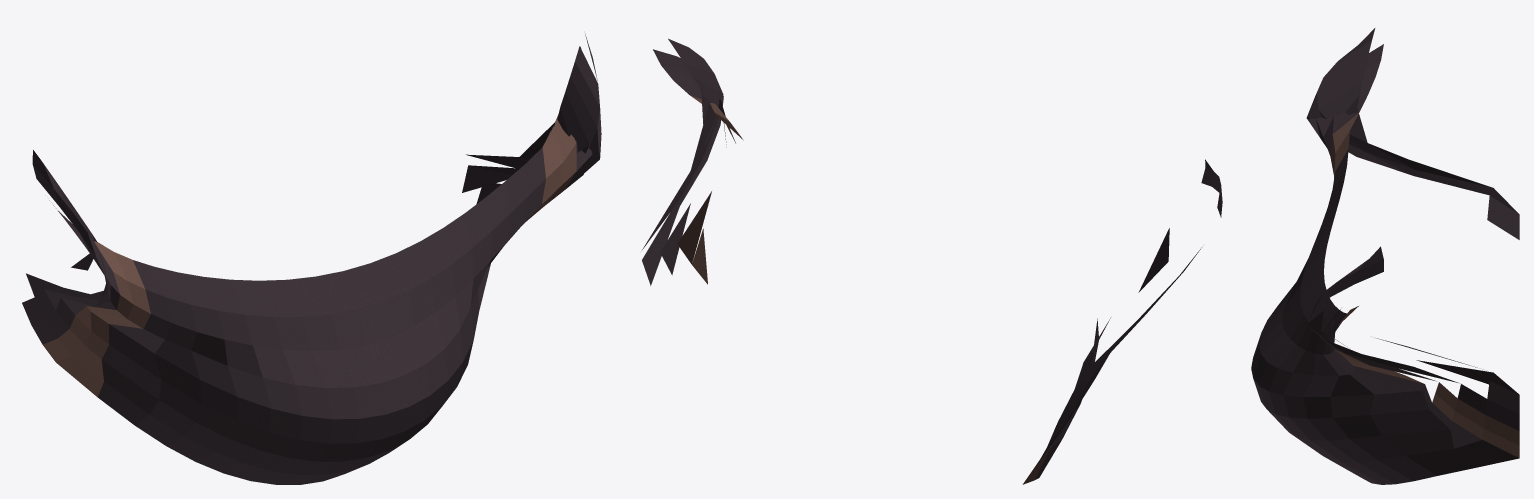
The model's file is facial_full_beard_long.gltf.
3 renders of one model, left to right at view 1: azimuth 30°, elevation 25°; view 2: azimuth 150°, elevation 25°; view 3: azimuth 270°, elevation 25°, orthographic. The views are drawn at different scales.
Visible parts, largest first — view 1: Full Beard long; view 2: Full Beard long; view 3: Full Beard long.
Boxes of the visible parts, x1,y1,x2,y2 form: Full Beard long: (22,33,601,484); Full Beard long: (642,38,1222,484); Full Beard long: (1251,28,1519,484).
Size of the model in its own units: 0.348 by 0.234 by 0.1701.
Materials: 2 (2 with a texture image).
